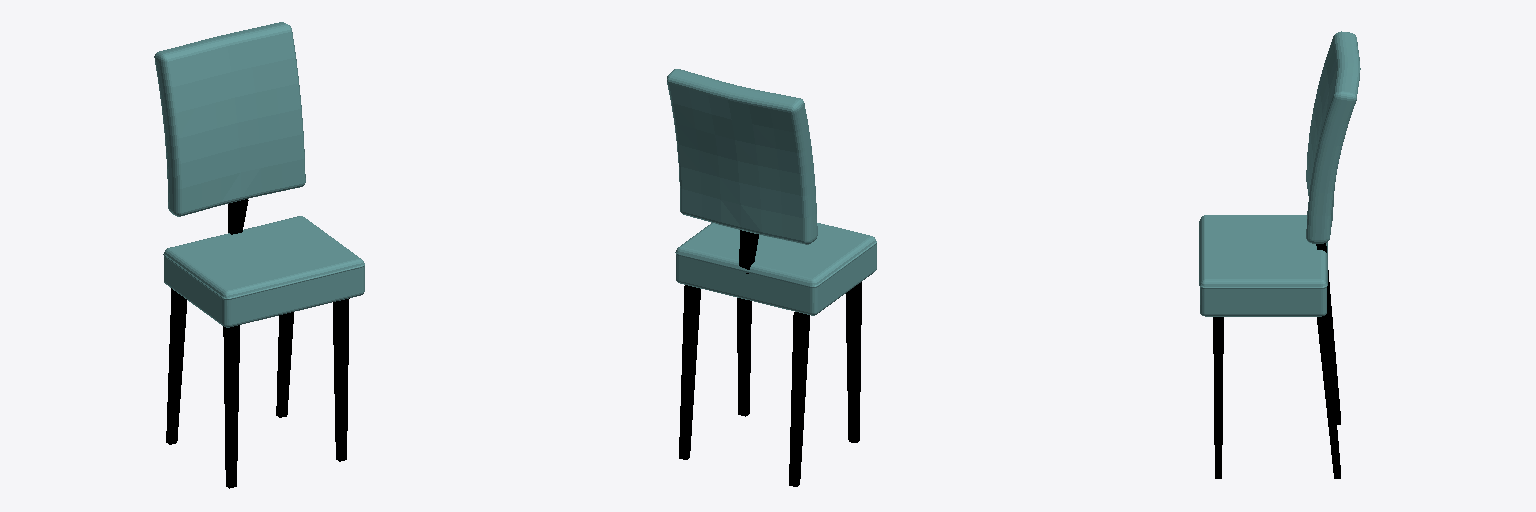
The picture shows the model from 3 angles: view 1: azimuth 30°, elevation 25°; view 2: azimuth 150°, elevation 25°; view 3: azimuth 270°, elevation 25°; orthographic projection.
Parts seen in each view (by area): view 1: polySurface3; view 2: polySurface3; view 3: polySurface3.
Part boxes in pixels (x1,y1,x2,y2): polySurface3: (154, 22, 364, 488); polySurface3: (667, 69, 876, 486); polySurface3: (1199, 31, 1360, 478).
Size of the model in its own units: 2.44 by 6.38 by 2.4.
Materials: 5 (1 with a texture image).